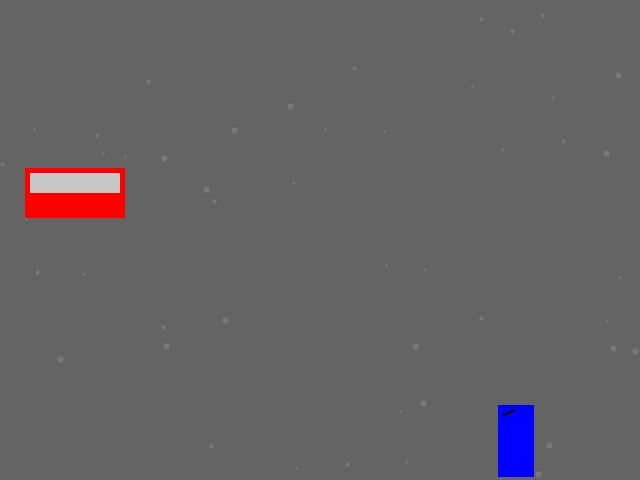car: (25, 168, 124, 217)
motorcycle: (498, 405, 533, 476)
